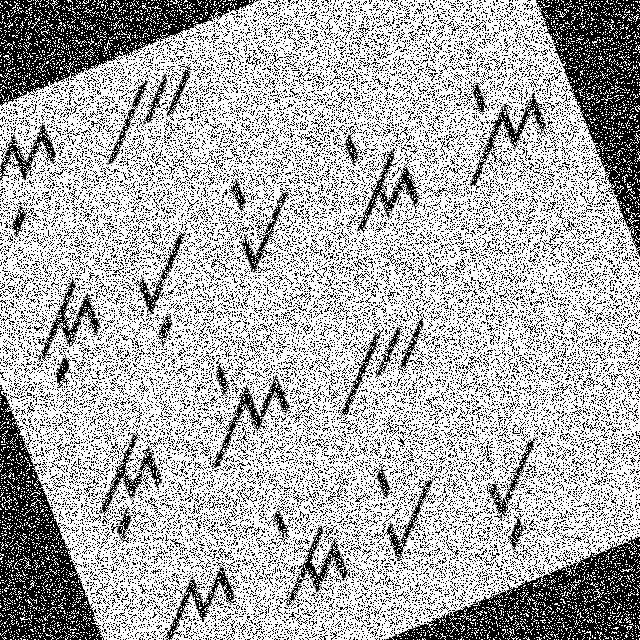de: (308, 108, 432, 250), (244, 486, 357, 614)
du: (60, 418, 200, 560), (1, 259, 123, 392)
ne: (422, 53, 572, 198), (166, 338, 306, 475)
nu: (119, 547, 267, 639), (0, 101, 91, 248)
pe: (200, 158, 318, 290), (347, 444, 458, 566)
pu: (452, 419, 577, 558), (107, 222, 224, 352)
